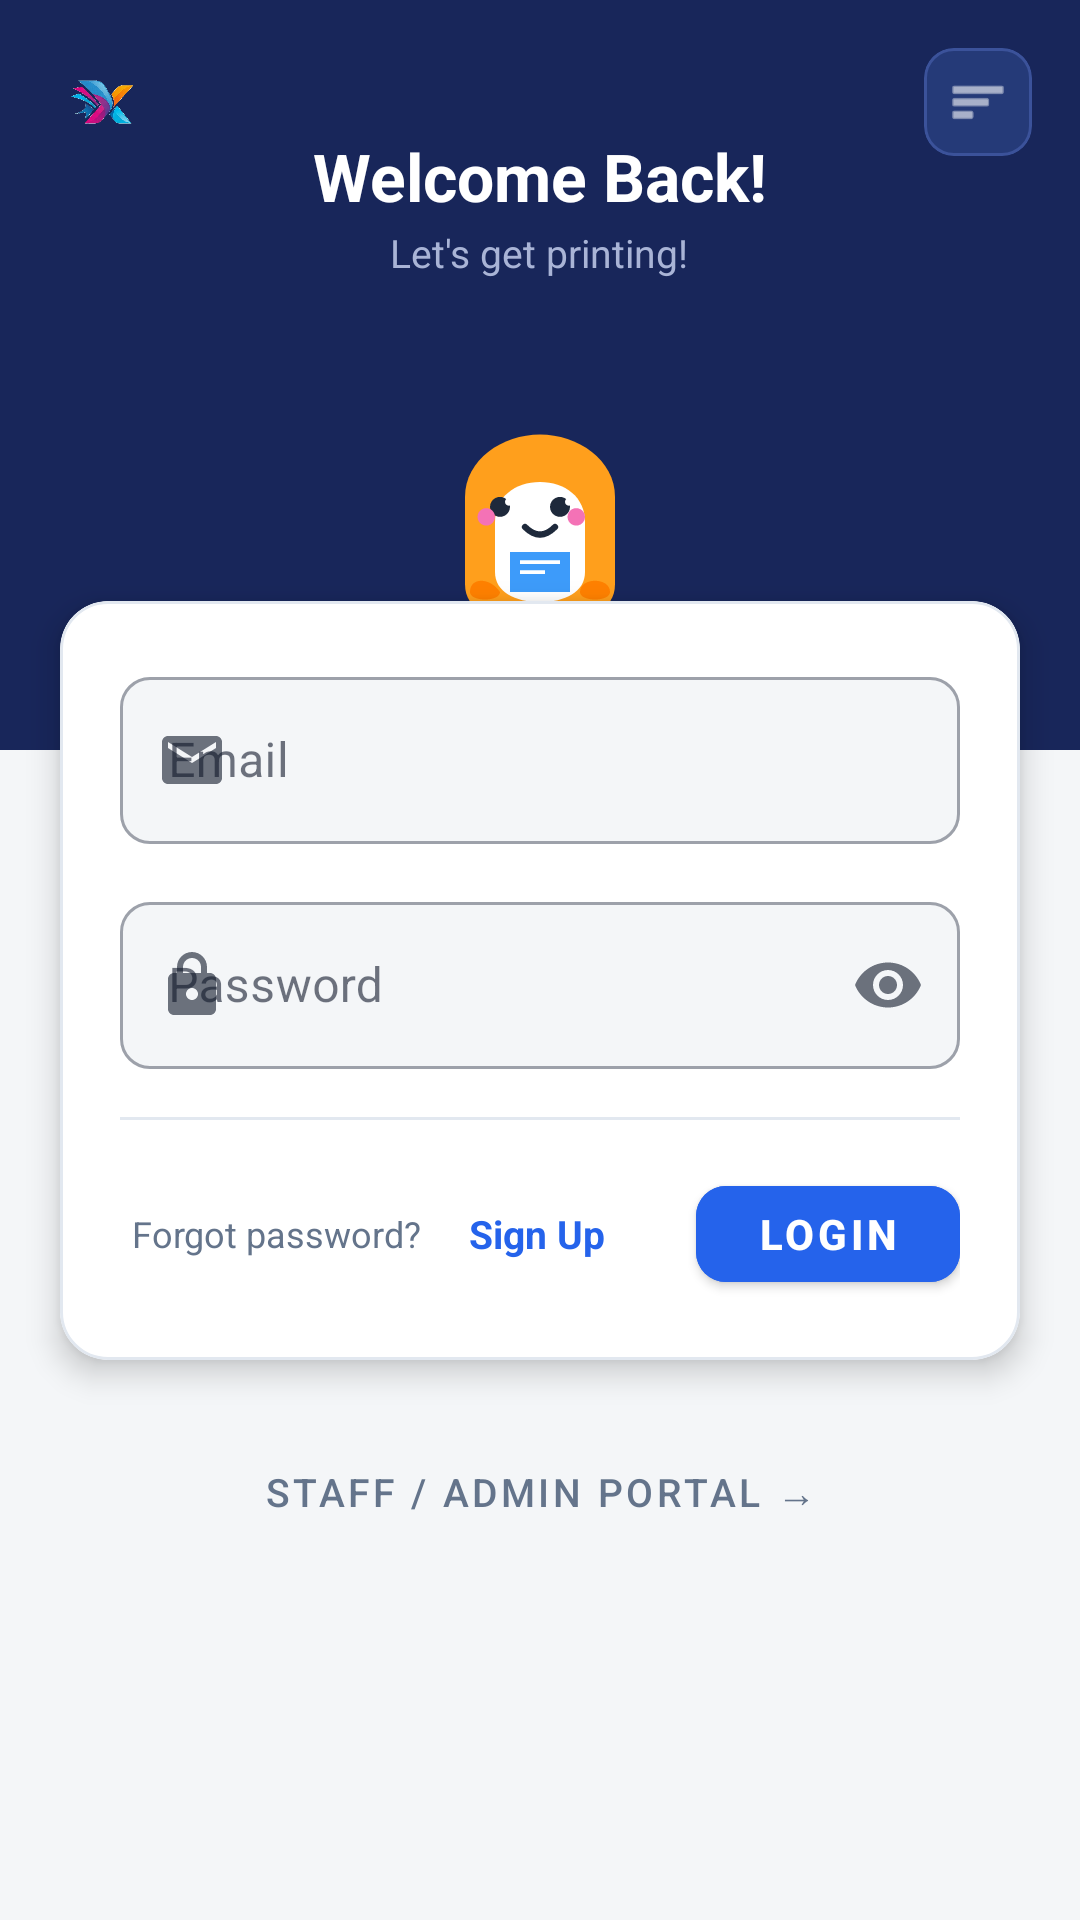

Icon bounding boxes for this 1080*1920 phone screenshot, format (x1, y1, x2, y2):
Menu Button: (952, 85, 1004, 119)
